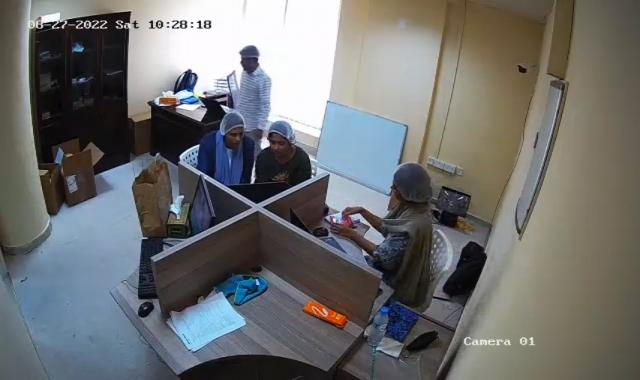hairnet: (392, 155, 437, 216), (216, 115, 248, 151), (269, 114, 294, 158), (235, 43, 260, 70)
